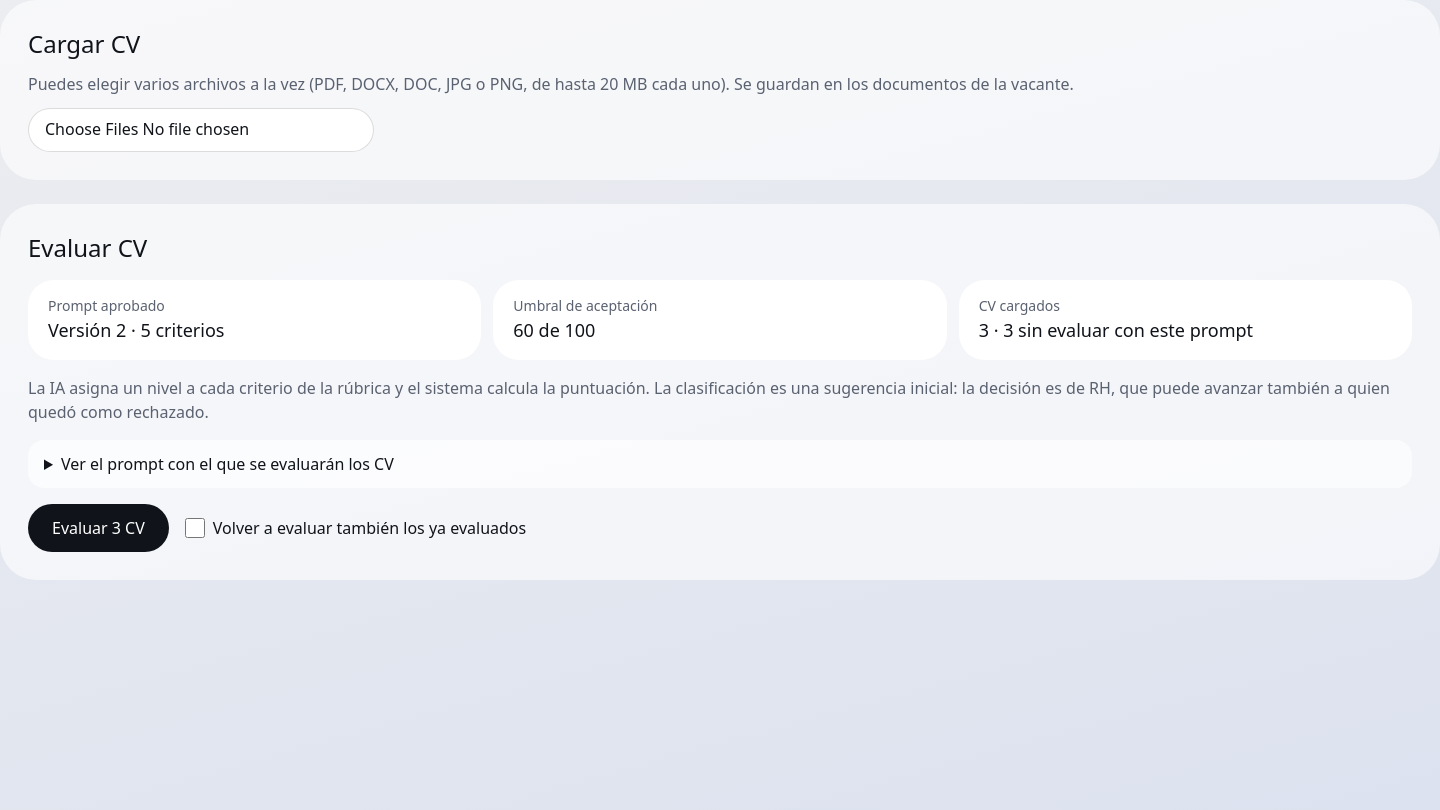
Scenario: CvEvaluationTab › inicia un lote con los CV pendientes y muestra los resultados
expect the text "Versión 2 · 5 criterios" is shown: met, box [48,318,224,342]
expect the text "60 de 100" is shown: met, box [513,318,595,342]
Click the button "Evaluar 3 CV". click: x=98, y=528
box: [28,504,169,552]
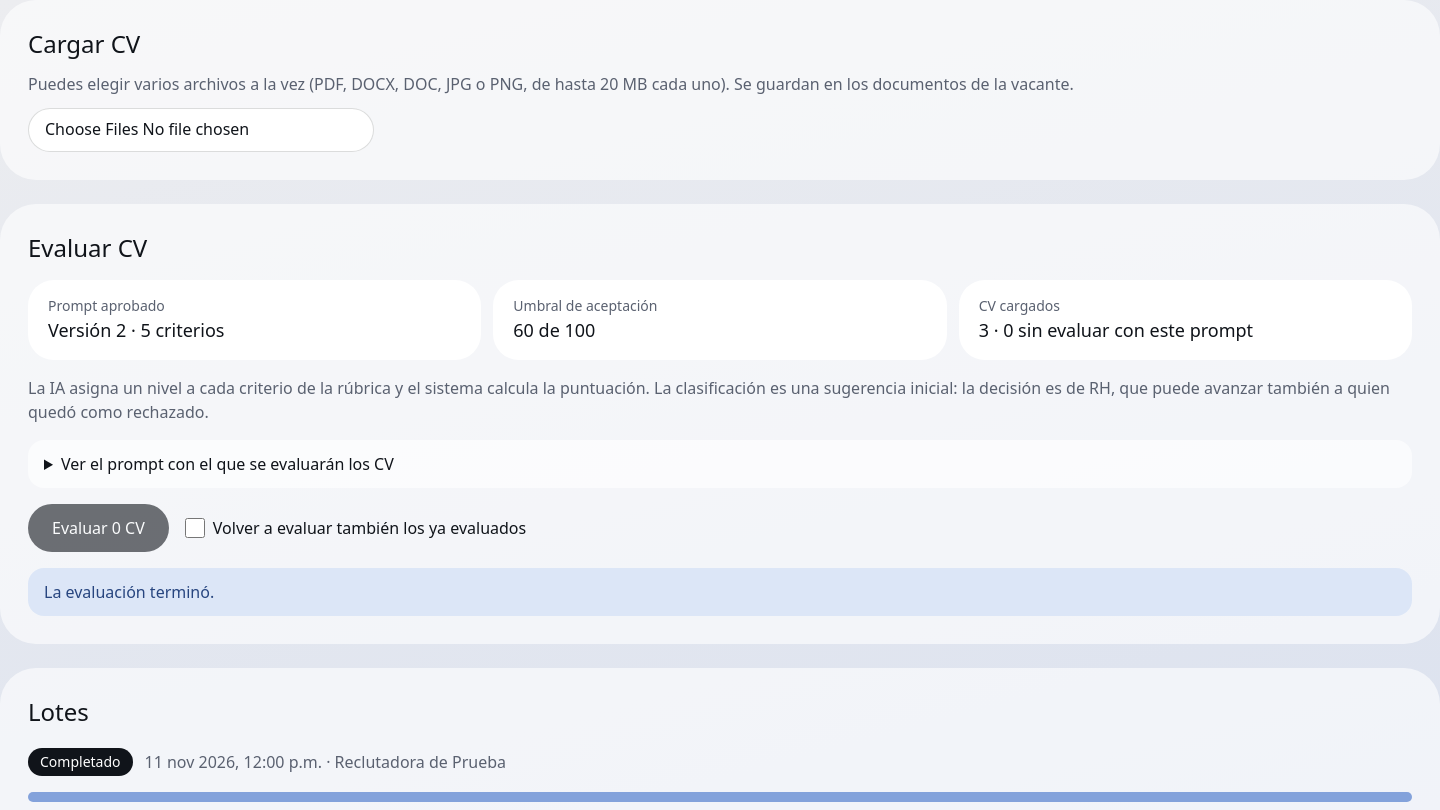
expect the message shows "terminó": met, box [44,581,214,603]
expect the button "Evaluar 0 CV" is disabled: met, box [28,504,169,552]
